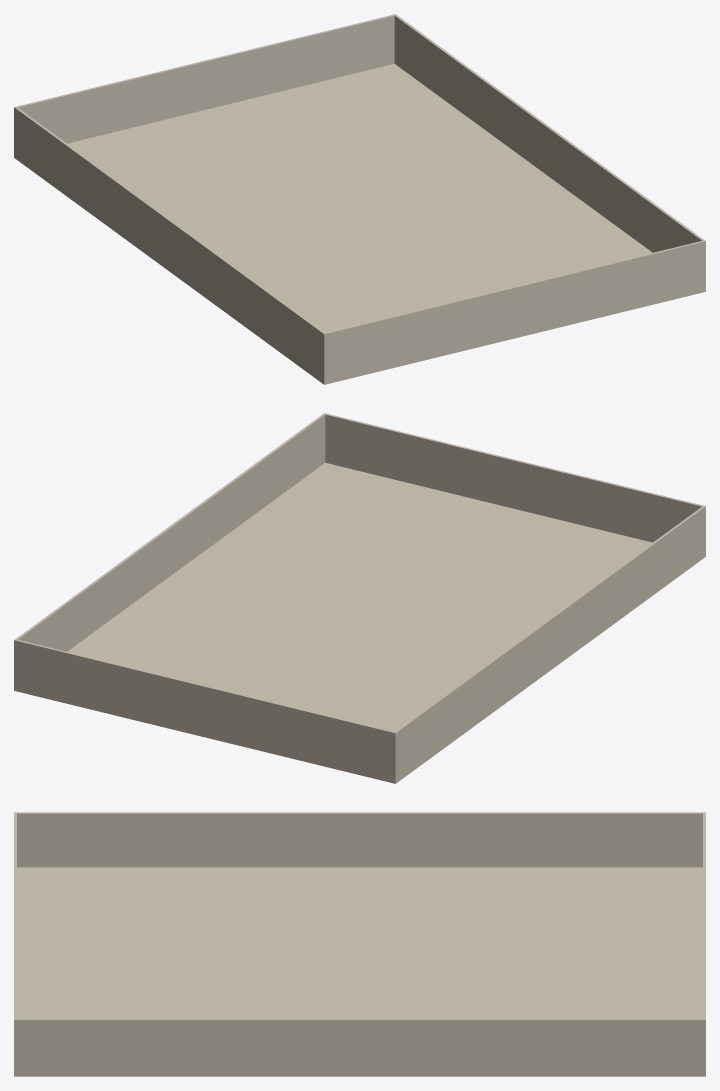
The model's file is jp_bedroom_book_manga_cover.glb.
3 renders of one model, top to bottom at view 1: azimuth 30°, elevation 25°; view 2: azimuth 150°, elevation 25°; view 3: azimuth 270°, elevation 25°, orthographic. The views are drawn at different scales.
Visible parts, largest first — view 1: cover; view 2: cover; view 3: cover.
Boxes of the visible parts, <box> form: cover: <box>14,14,705,384</box>; cover: <box>14,413,705,783</box>; cover: <box>14,812,705,1076</box>.
Size of the model in its own units: 0.142 by 0.018 by 0.2.
